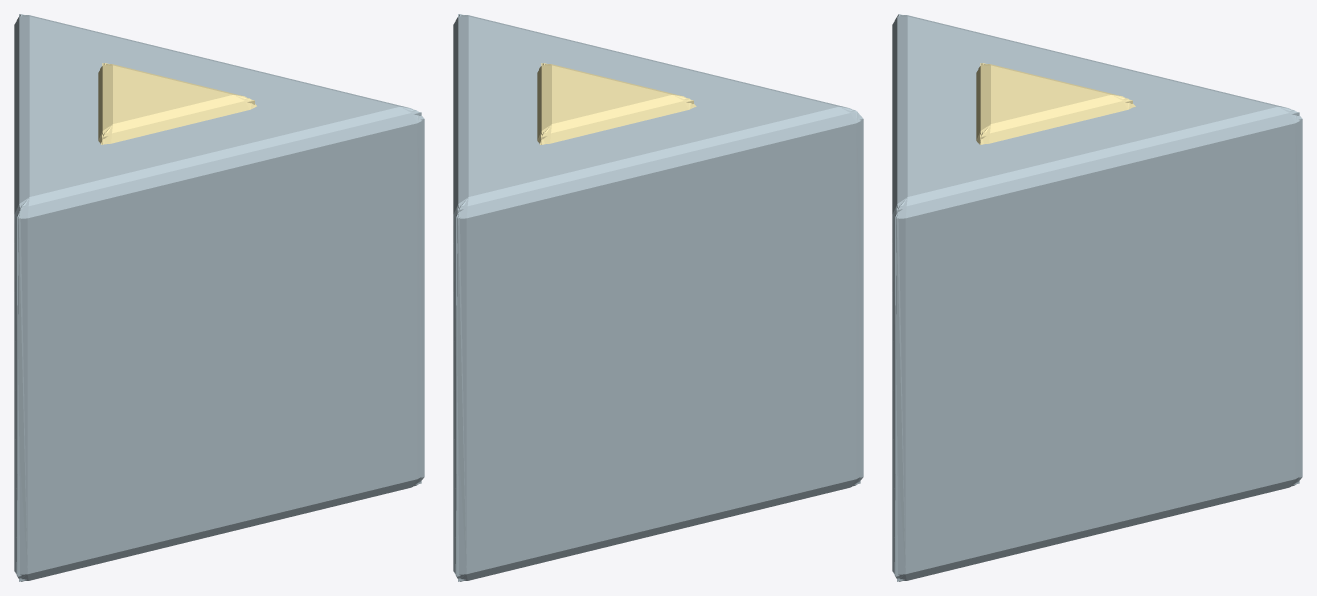
The model's file is SM_Mirror.fbx.
3 views of the same model, side by side, from view 1: azimuth 30°, elevation 25°; view 2: azimuth 150°, elevation 25°; view 3: azimuth 270°, elevation 25° (orthographic).
Parts seen in each view (by area): view 1: SM_Mirror, LOD1_SM_Mirror, LOD2_SM_Mirror; view 2: SM_Mirror, LOD1_SM_Mirror, LOD2_SM_Mirror; view 3: SM_Mirror, LOD1_SM_Mirror, LOD2_SM_Mirror.
Boxes of the visible parts, x1,y1,x2,y2 form: SM_Mirror: [14, 15, 422, 580]; LOD1_SM_Mirror: [14, 14, 423, 579]; LOD2_SM_Mirror: [17, 14, 424, 581]; SM_Mirror: [453, 15, 861, 580]; LOD1_SM_Mirror: [453, 14, 862, 578]; LOD2_SM_Mirror: [456, 14, 863, 581]; SM_Mirror: [892, 15, 1300, 580]; LOD1_SM_Mirror: [892, 14, 1301, 579]; LOD2_SM_Mirror: [895, 14, 1302, 581].
Bounding box in the file's own units: 0.3052 × 0.2907 × 0.2661.
